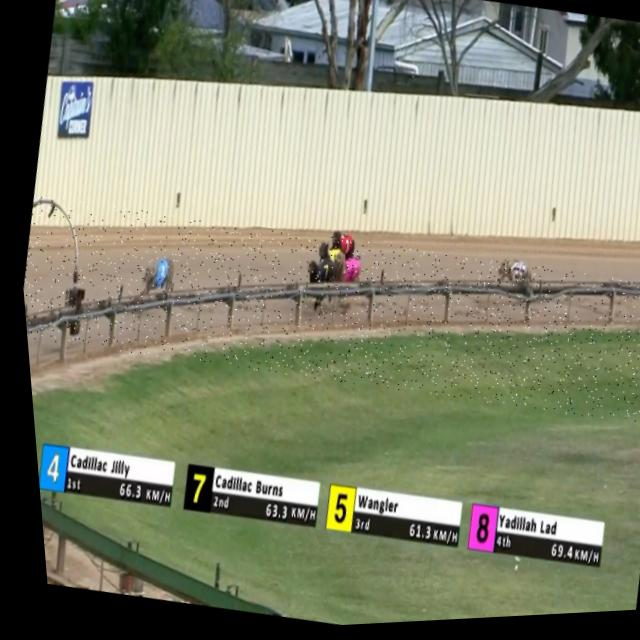dog_eight: (336, 264, 358, 292)
dog_five: (320, 252, 338, 275)
dog_four: (148, 263, 168, 292)
dog_one: (332, 237, 352, 262)
dog_seven: (310, 266, 329, 292)
dog_two: (504, 264, 525, 292)
rail: (21, 285, 640, 336)
